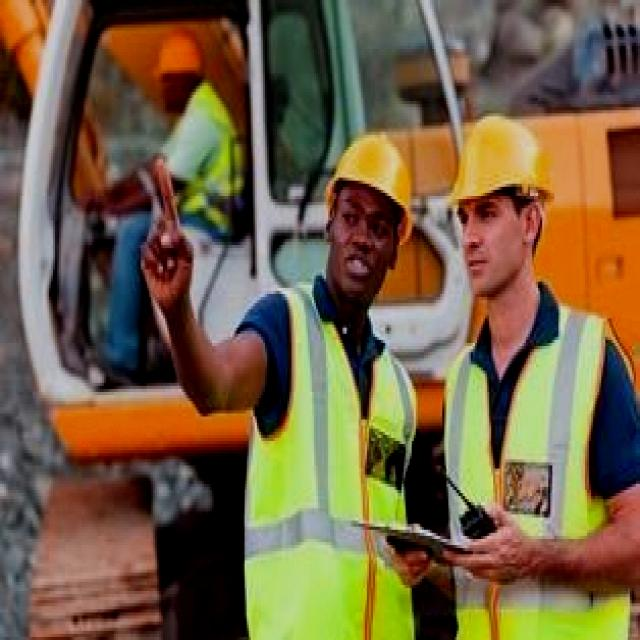face_nomask: (330, 187, 396, 294), (454, 193, 518, 297)
hand_noglove: (138, 156, 204, 309), (450, 493, 530, 594)
head_helmet: (446, 107, 544, 205), (330, 125, 408, 218), (155, 28, 204, 76)
person: (444, 119, 640, 640), (248, 128, 411, 640), (100, 21, 246, 358)
vest: (251, 296, 414, 636), (446, 352, 626, 640), (180, 92, 242, 208)
